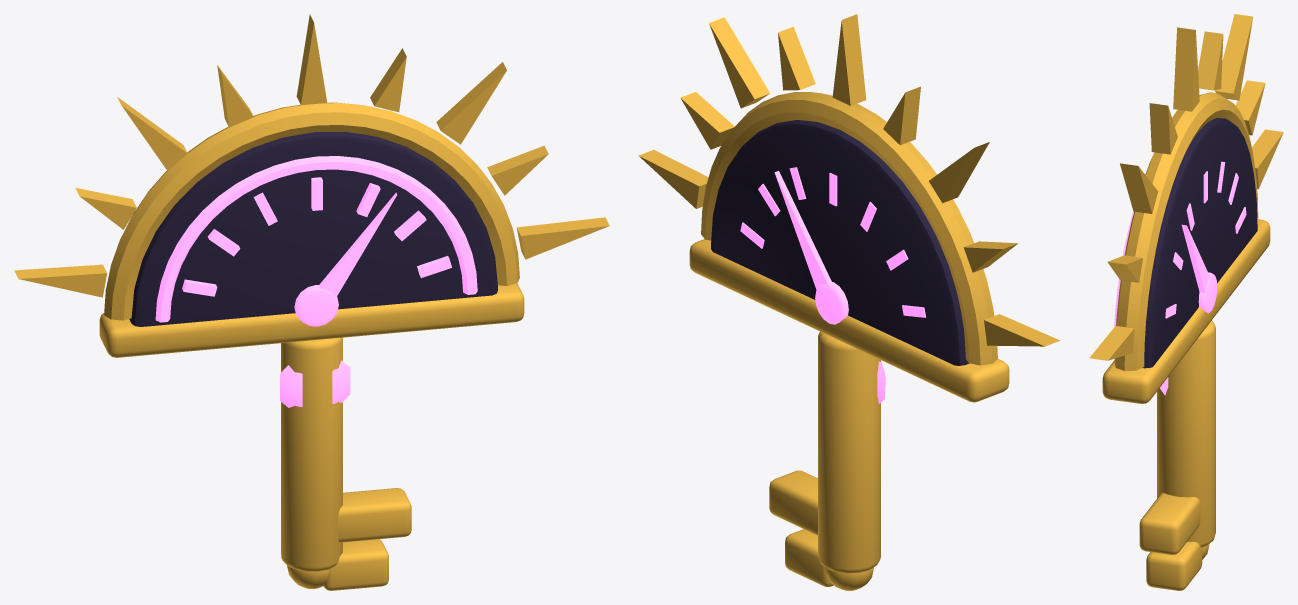
File: ElevatorKey.fbx
The picture shows the model from 3 angles, left to right: view 1: azimuth 30°, elevation 25°; view 2: azimuth 150°, elevation 25°; view 3: azimuth 270°, elevation 25°; orthographic projection. The views are drawn at different scales.
Parts seen in each view (by area): view 1: ElevatorKey_Trim, ElevatorKey_Body, ElevatorKey_Neon; view 2: ElevatorKey_Trim, ElevatorKey_Body, ElevatorKey_Neon; view 3: ElevatorKey_Trim, ElevatorKey_Body, ElevatorKey_Neon.
Part boxes in pixels (x1,y1,x2,y2): ElevatorKey_Trim: [14, 14, 609, 590]; ElevatorKey_Body: [129, 132, 497, 326]; ElevatorKey_Neon: [155, 156, 477, 407]; ElevatorKey_Trim: [638, 14, 1059, 590]; ElevatorKey_Body: [711, 120, 969, 365]; ElevatorKey_Neon: [740, 167, 925, 403]; ElevatorKey_Trim: [1089, 14, 1283, 590]; ElevatorKey_Body: [1142, 118, 1257, 368]; ElevatorKey_Neon: [1114, 161, 1246, 395].
Size of the model in its own units: 2.78 by 3 by 0.9887.
